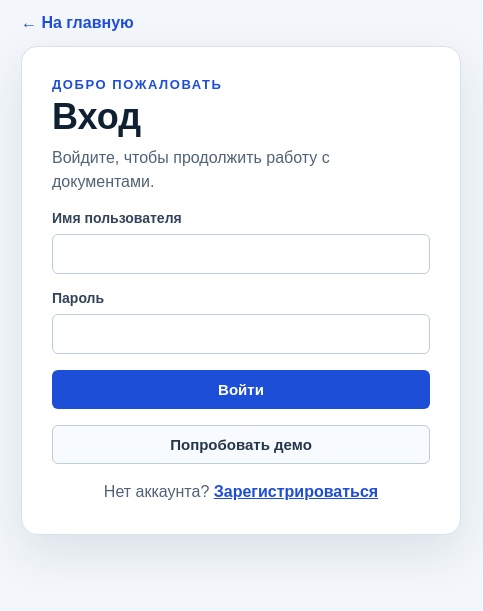
Test: shows a user-friendly message for invalid credentials
The width and height of the screenshot is (483, 611).
Type "wrong-user" into the field labelled "Имя пользователя" at (241, 254), box [52,234,430,274]
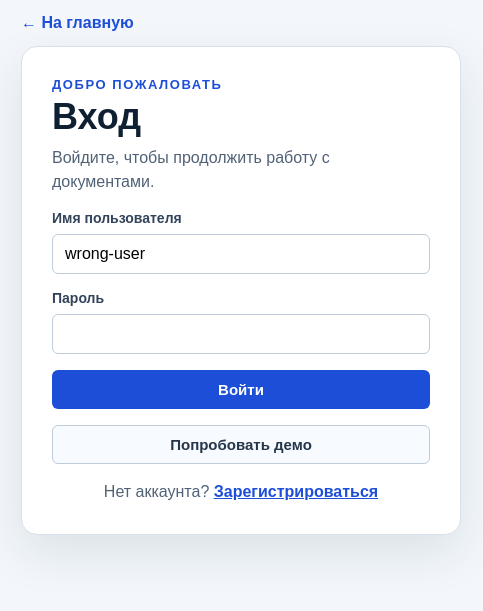
Type "wrong-password" into the password field labelled "Пароль" at (241, 334), box [52,314,430,354]
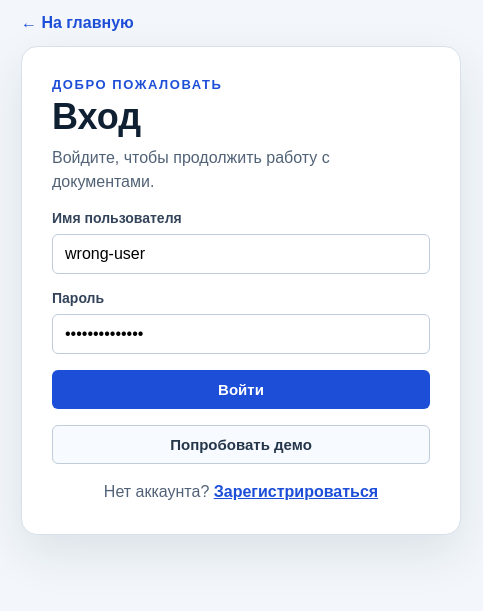
Click the button "Войти" at (241, 390), box [52,370,430,409]
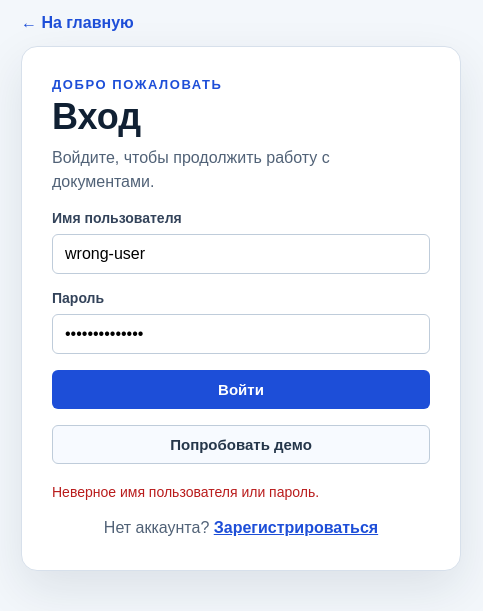
Expected: the text "Неверное имя пользователя или пароль." is shown, [52,484,319,500]
